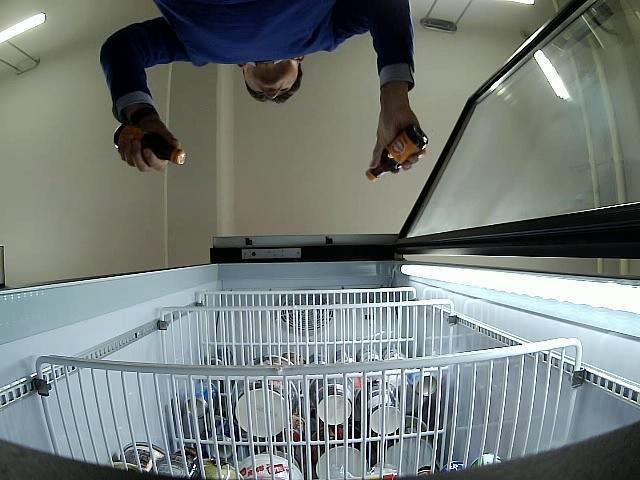17_vita500: (367, 127, 427, 182), (114, 125, 186, 166)
